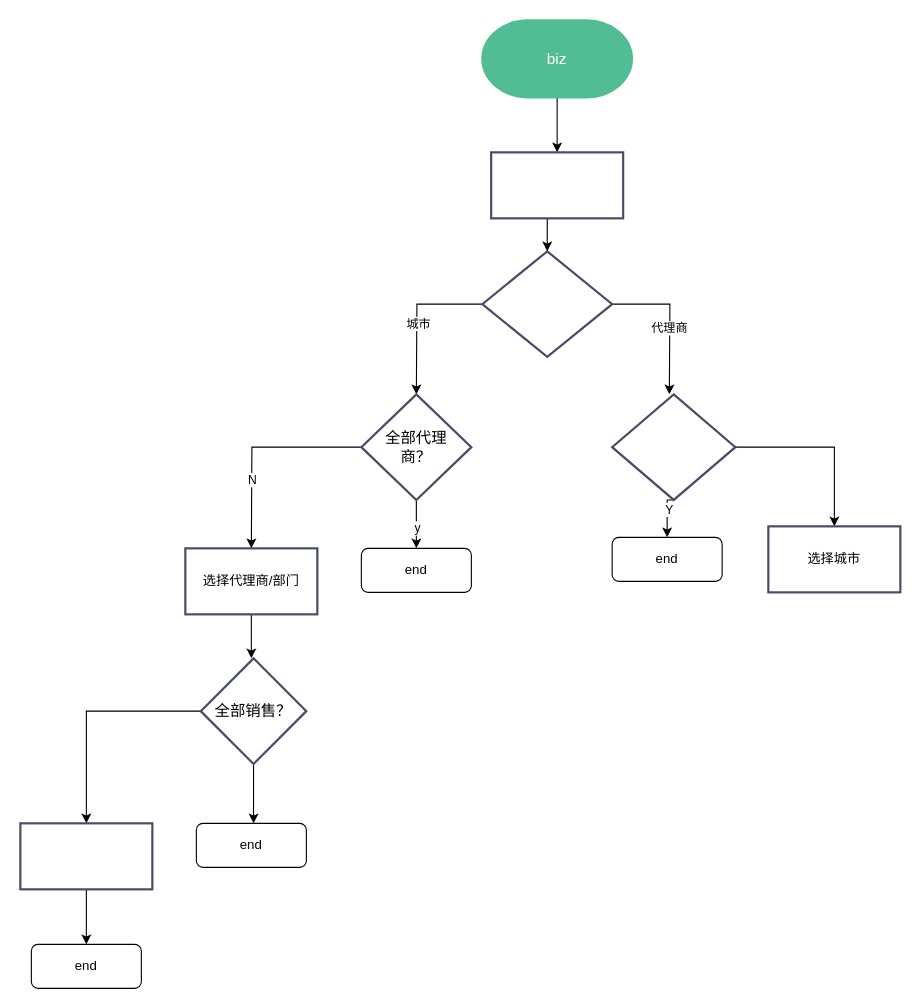
This 920x1008 diagram has some shape labels left out. The box of each missing label's shape, as (x1, y1, x2, y2) in pixels:
产品线: (490, 151, 624, 219)
全部城市？: (610, 393, 736, 501)
城市or代理商: (481, 250, 613, 358)
选择销售: (19, 822, 153, 890)
